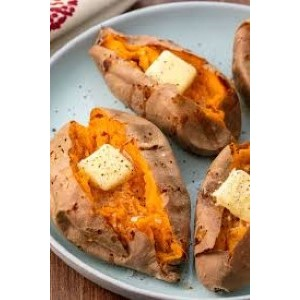sweet potato_brain food: (81, 135, 168, 257)
